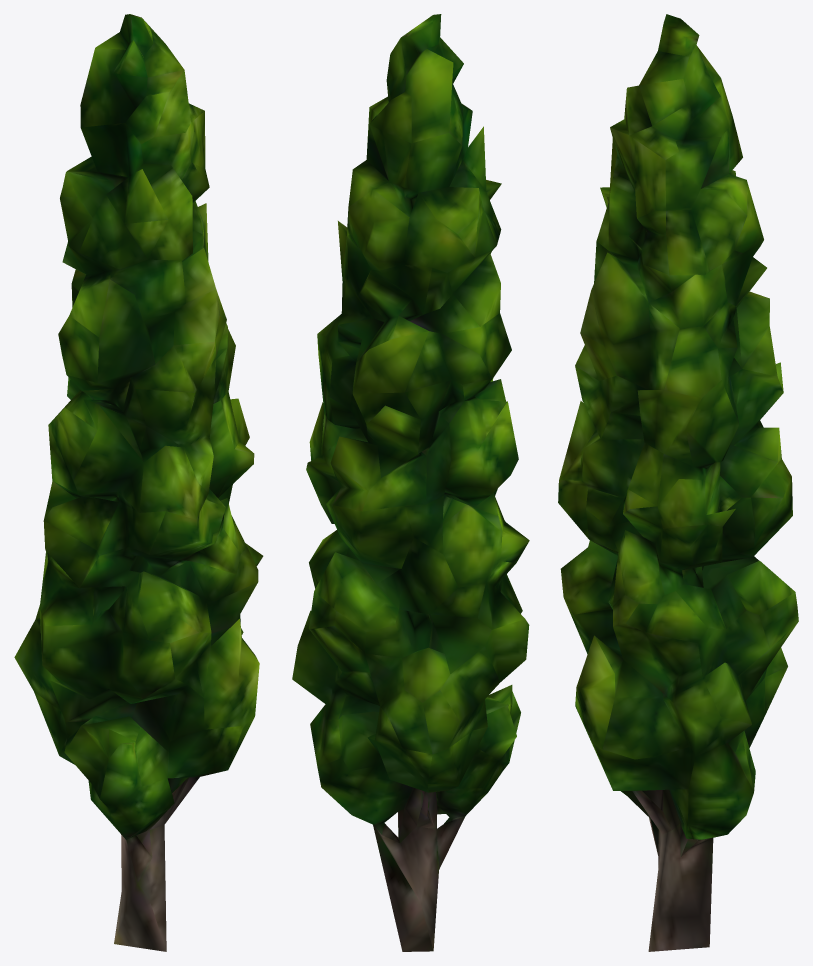
The model's file is tree-poplar.glb.
3 views of the same model, side by side, from view 1: azimuth 30°, elevation 25°; view 2: azimuth 150°, elevation 25°; view 3: azimuth 270°, elevation 25° (orthographic).
Visible parts, largest first — view 1: tree-poplar; view 2: tree-poplar; view 3: tree-poplar.
Part boxes in pixels (<box>): tree-poplar: <box>14,14,263,951</box>; tree-poplar: <box>292,14,529,951</box>; tree-poplar: <box>558,14,798,951</box>.
Size of the model in its own units: 2.8 by 11.68 by 2.75.
1 material, 1 textured.
